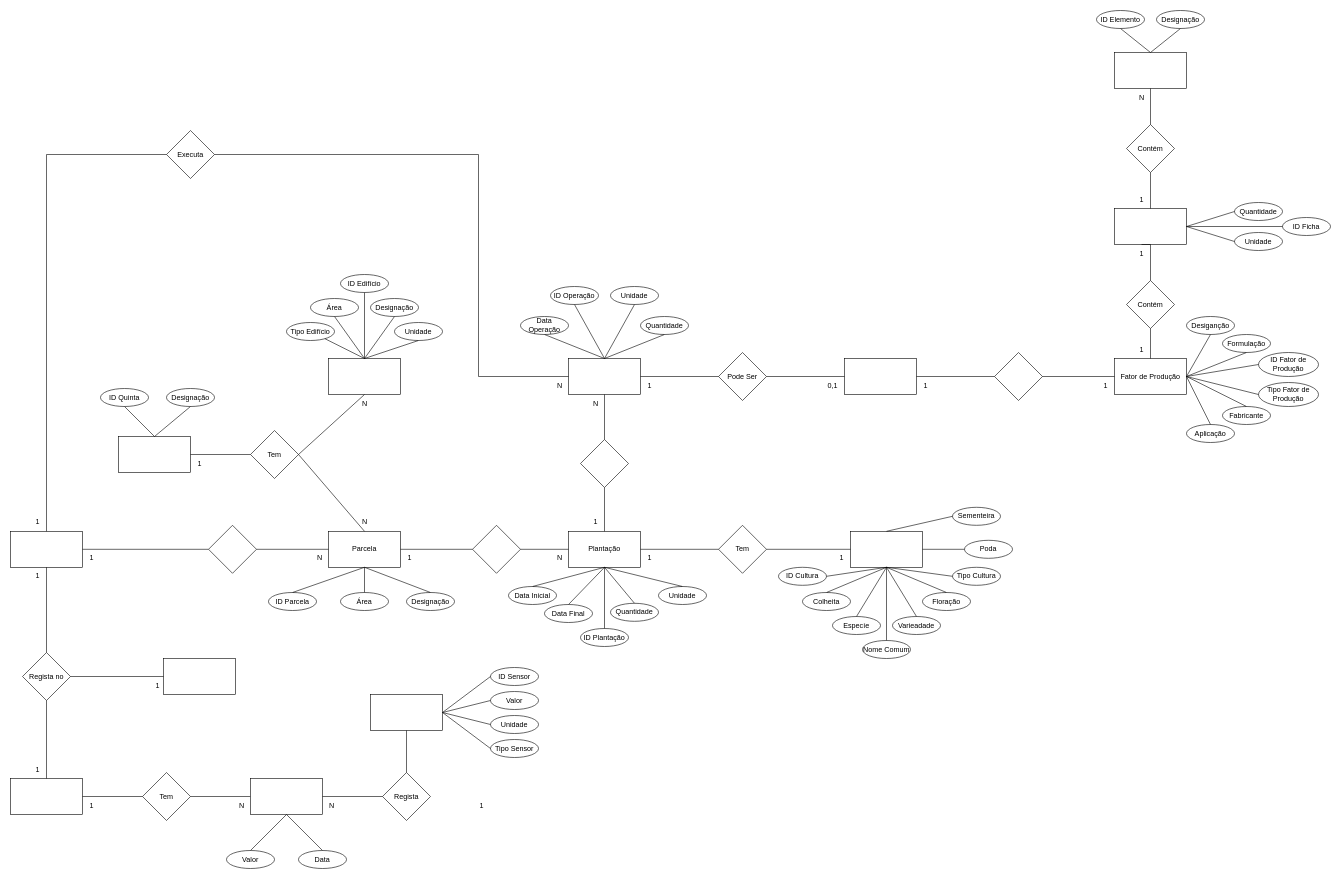
Image size: 1341x879. Some labels were removed from this diagram. The shapes that lost their labels are listed below. From the top down, each one's centre as x and y in pixels, then its label:
At (x=1150, y=70): "Elemento".
At (x=1150, y=226): "Ficha Técnica".
At (x=364, y=376): "Edíficio".
At (x=604, y=376): "Operação".
At (x=880, y=376): "Fertilização".
At (x=1018, y=376): "Usa".
At (x=154, y=454): "Quinta".
At (x=604, y=463): "Aplica-se".
At (x=46, y=549): "Gestor Agrícola".
At (x=232, y=549): "Gere".
At (x=496, y=549): "Cultiva-se".
At (x=886, y=549): "Cultura".
At (x=199, y=676): "Caderno de Campo".
At (x=406, y=712): "Sensor".
At (x=46, y=796): "Estação Meteorológica".
At (x=286, y=796): "Registo do Sensor".
